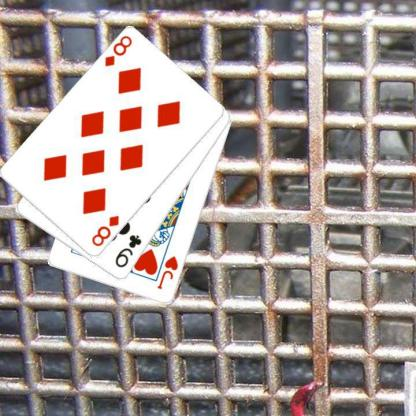8D: (89, 212, 121, 248), (102, 33, 134, 68)
9C: (112, 232, 143, 270)
JH: (155, 254, 180, 290)
